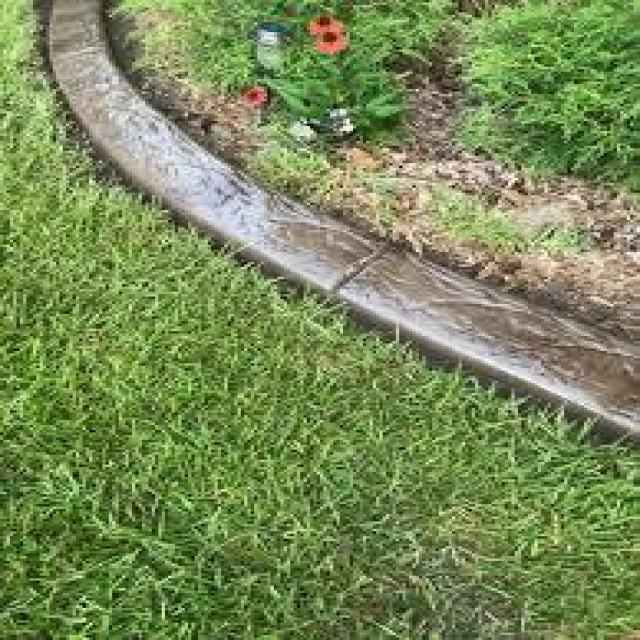bump: (198, 151, 640, 434)
